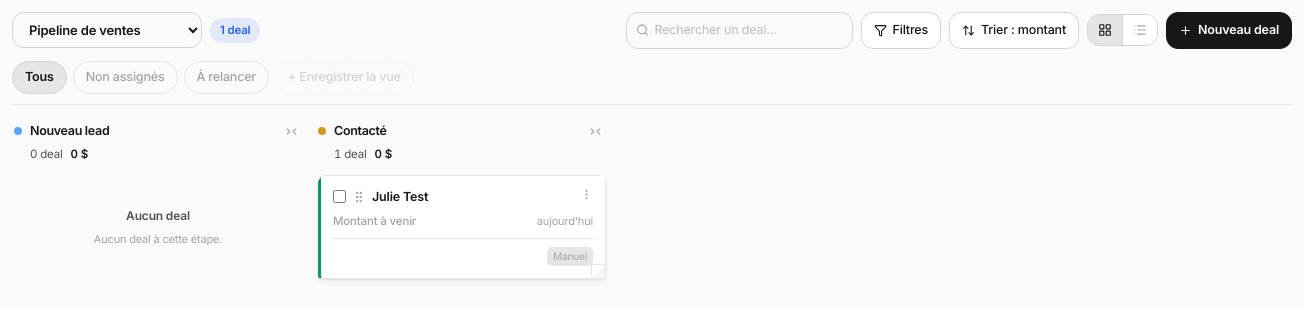
it: colonnes repliables › replier réduit la colonne à une bande, sans ses cartes, et le retient
Click the button named "Replier la colonne « Contacté »": point(596, 131) [585,120,606,142]
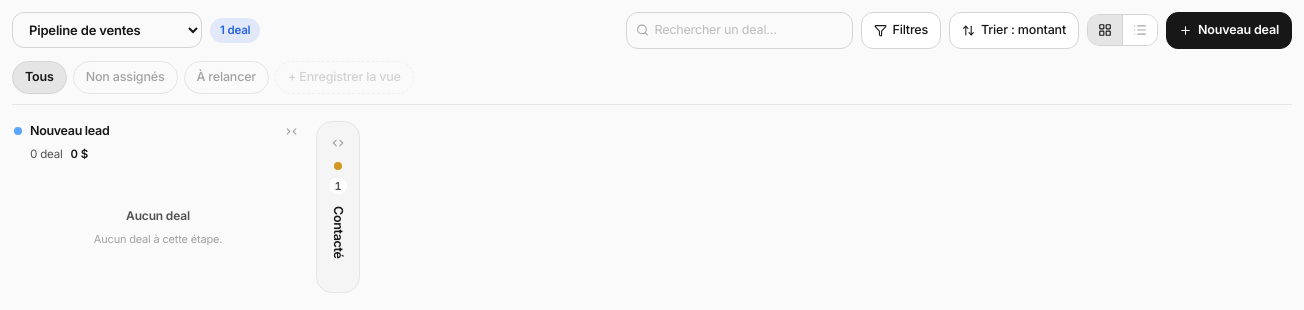
expect the button named "Déplier la colonne « Contacté »" is shown: met, box [327,132,349,154]
expect the text "Julie Test" is gone: met
